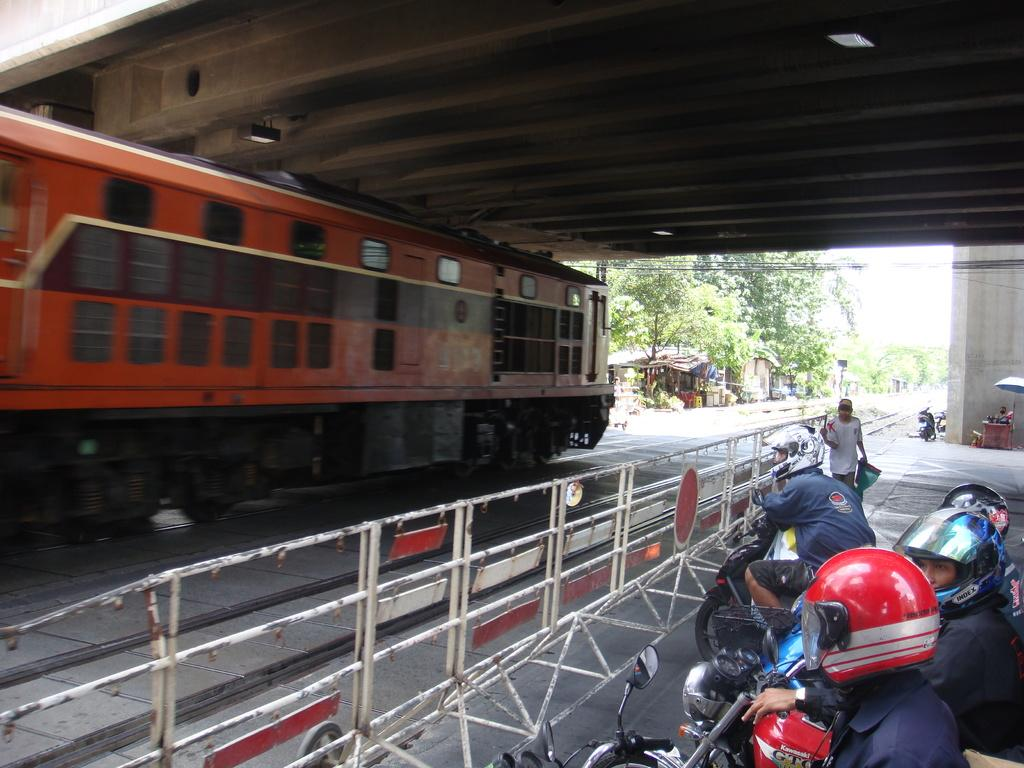helmet: (801, 548, 940, 688), (892, 508, 1007, 618), (763, 423, 825, 483)
nohelmet: (837, 398, 853, 421)
